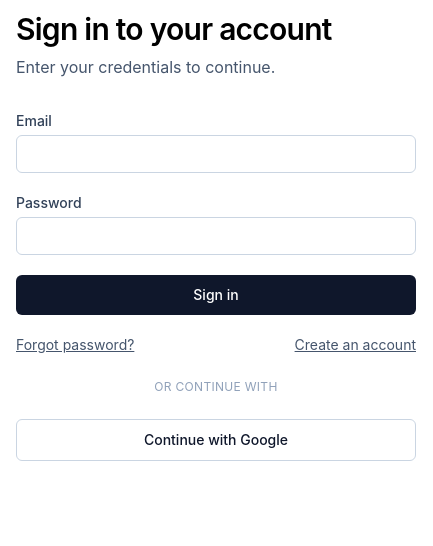
Test case: LoginPage — OAuth start (spec §4.10) › maps a 503 auth.policy_unavailable to the shared retryable copy
The image size is (433, 546).
What coordinates should you click on to do the following:
click the button "Continue with Google"
I would click on:
 (216, 440)
Its box is [16,419,416,461].
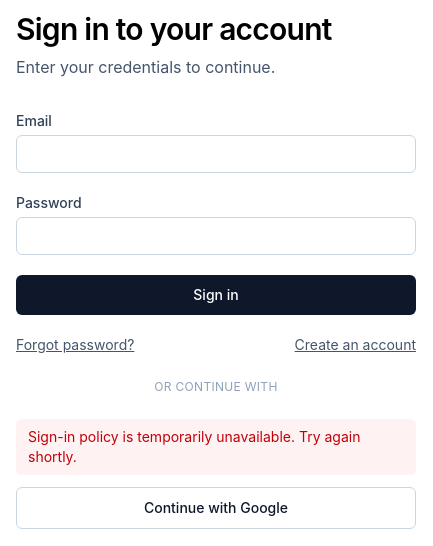
Expected: the text "Sign-in policy is temporarily unavailable. Try again shortly." is shown, [16,419,416,475]
